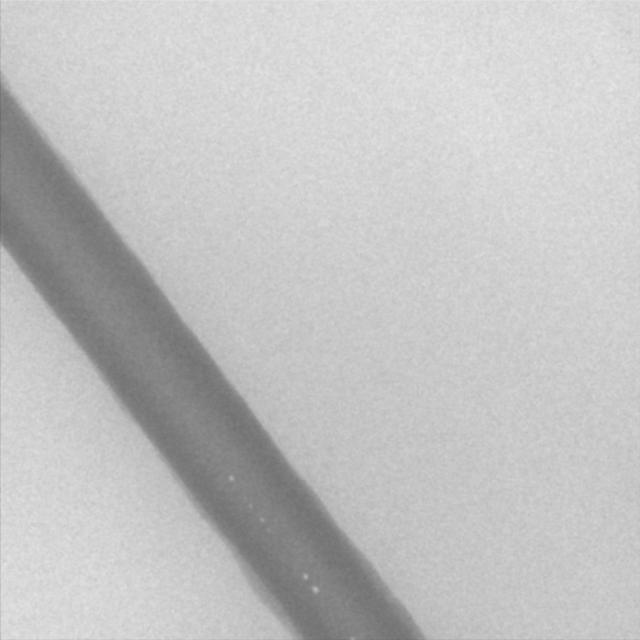air hole: (310, 583, 320, 596), (300, 571, 309, 581), (227, 474, 236, 484)
